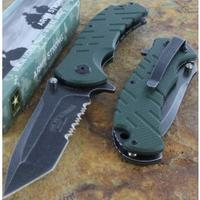knife: (2, 2, 129, 199)
